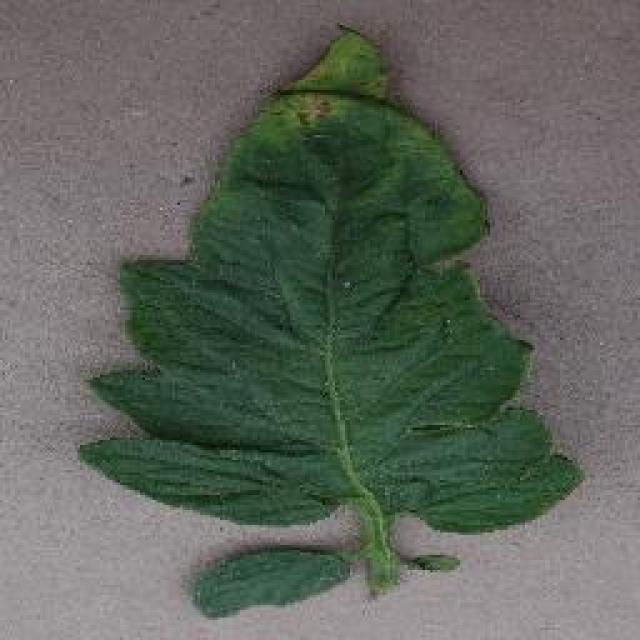Tomato___Bacterial_spot: (63, 27, 594, 620)
